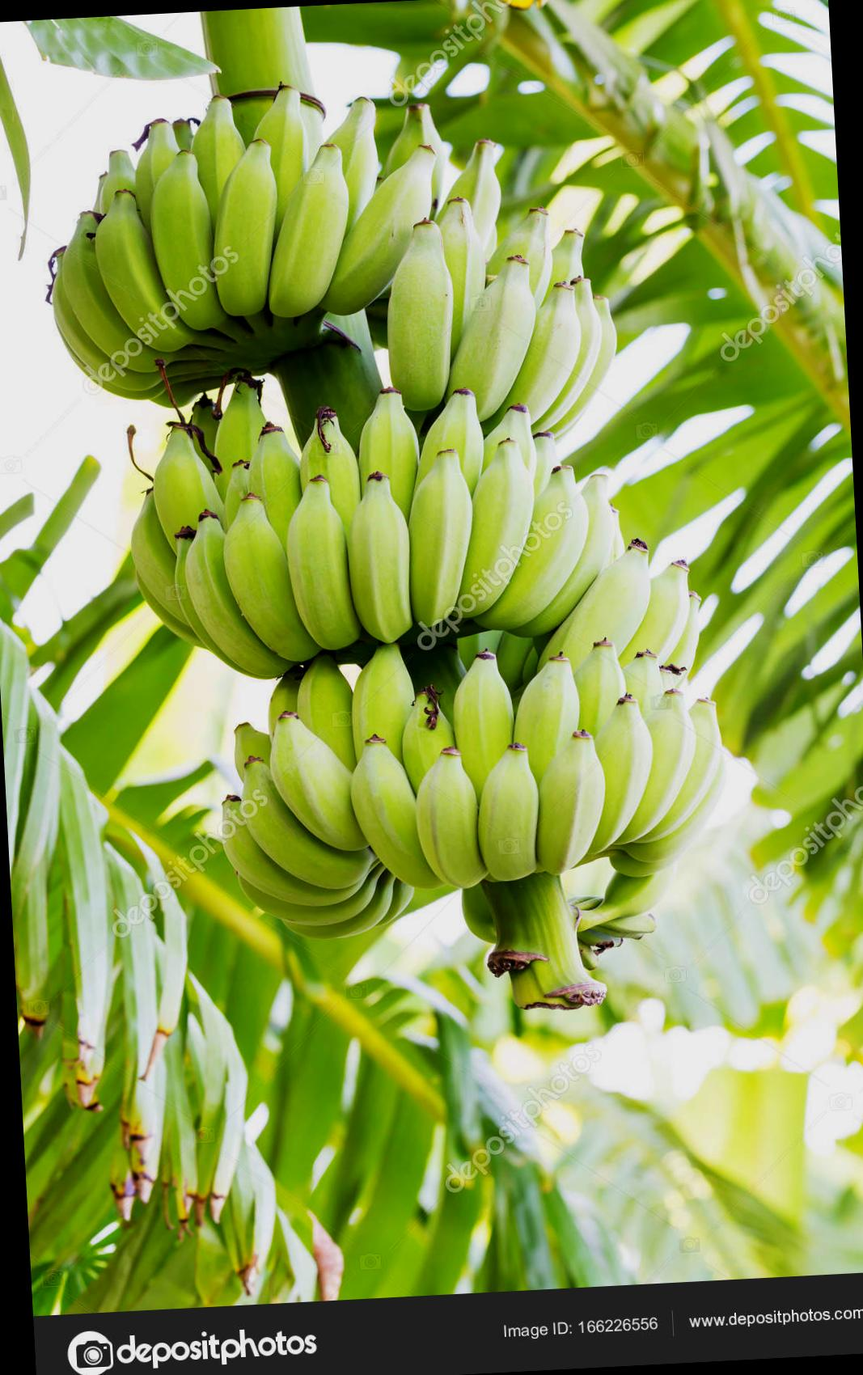Banana Unripe: (6, 2, 733, 1120)
